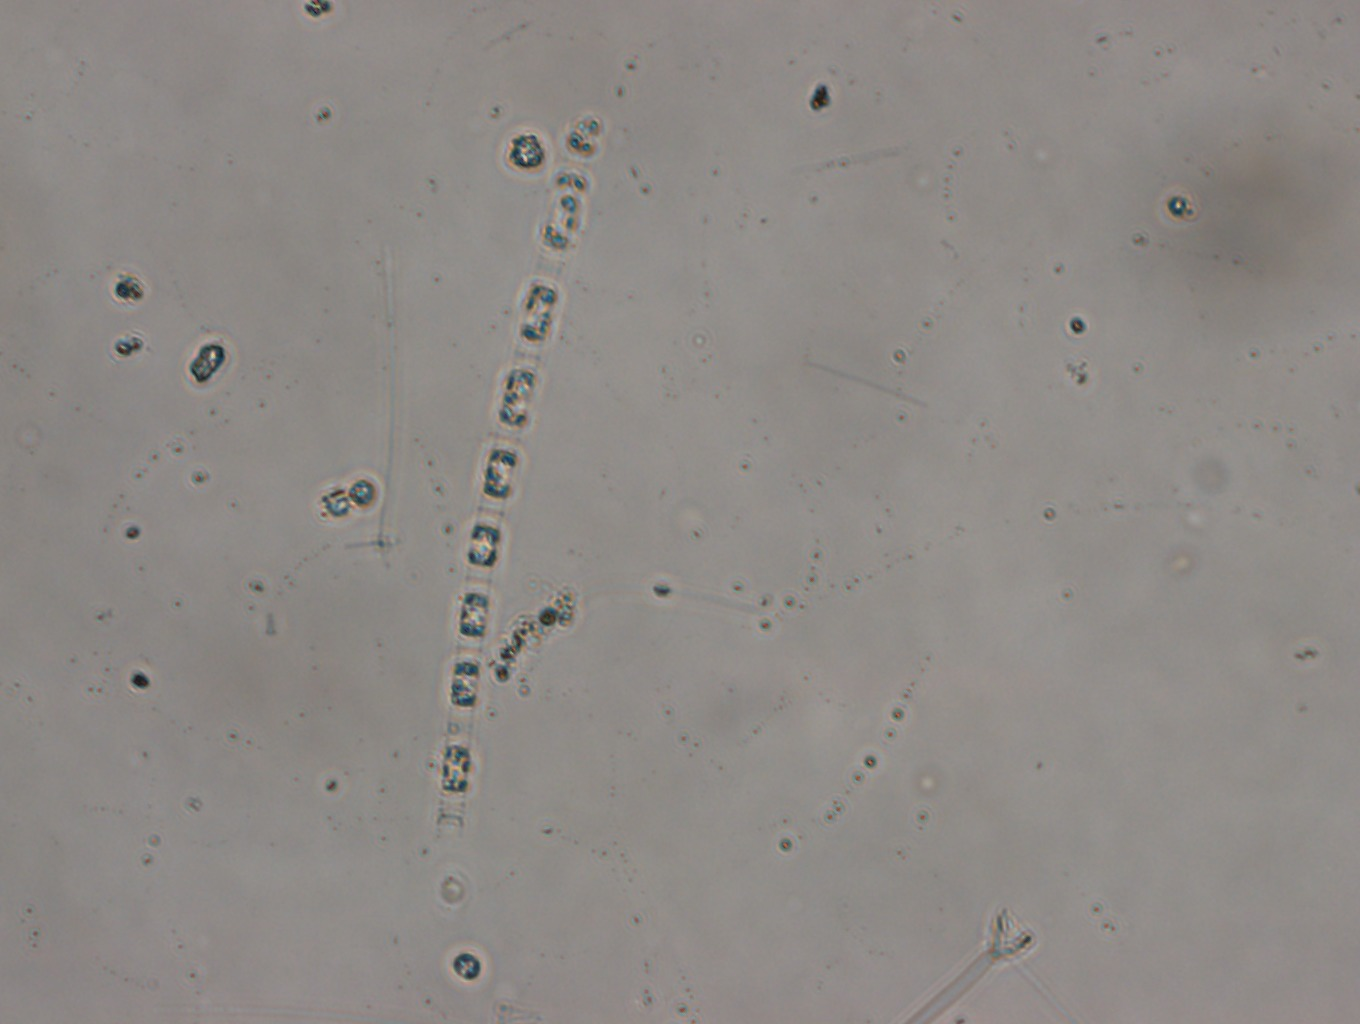skeletonema: (436, 109, 603, 839)
